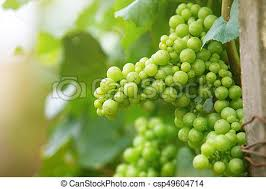grapes: (100, 6, 222, 120), (183, 75, 252, 176)
